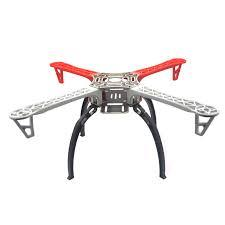drone: (11, 50, 222, 186)
